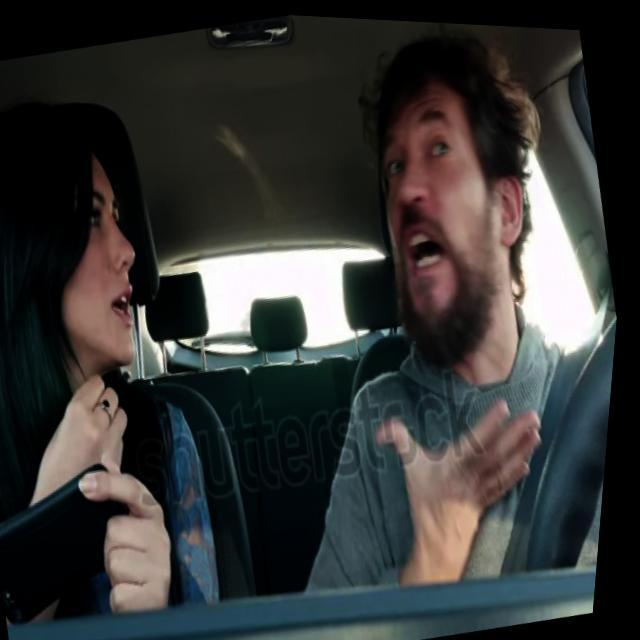PhoneCall: (0, 454, 157, 634)
